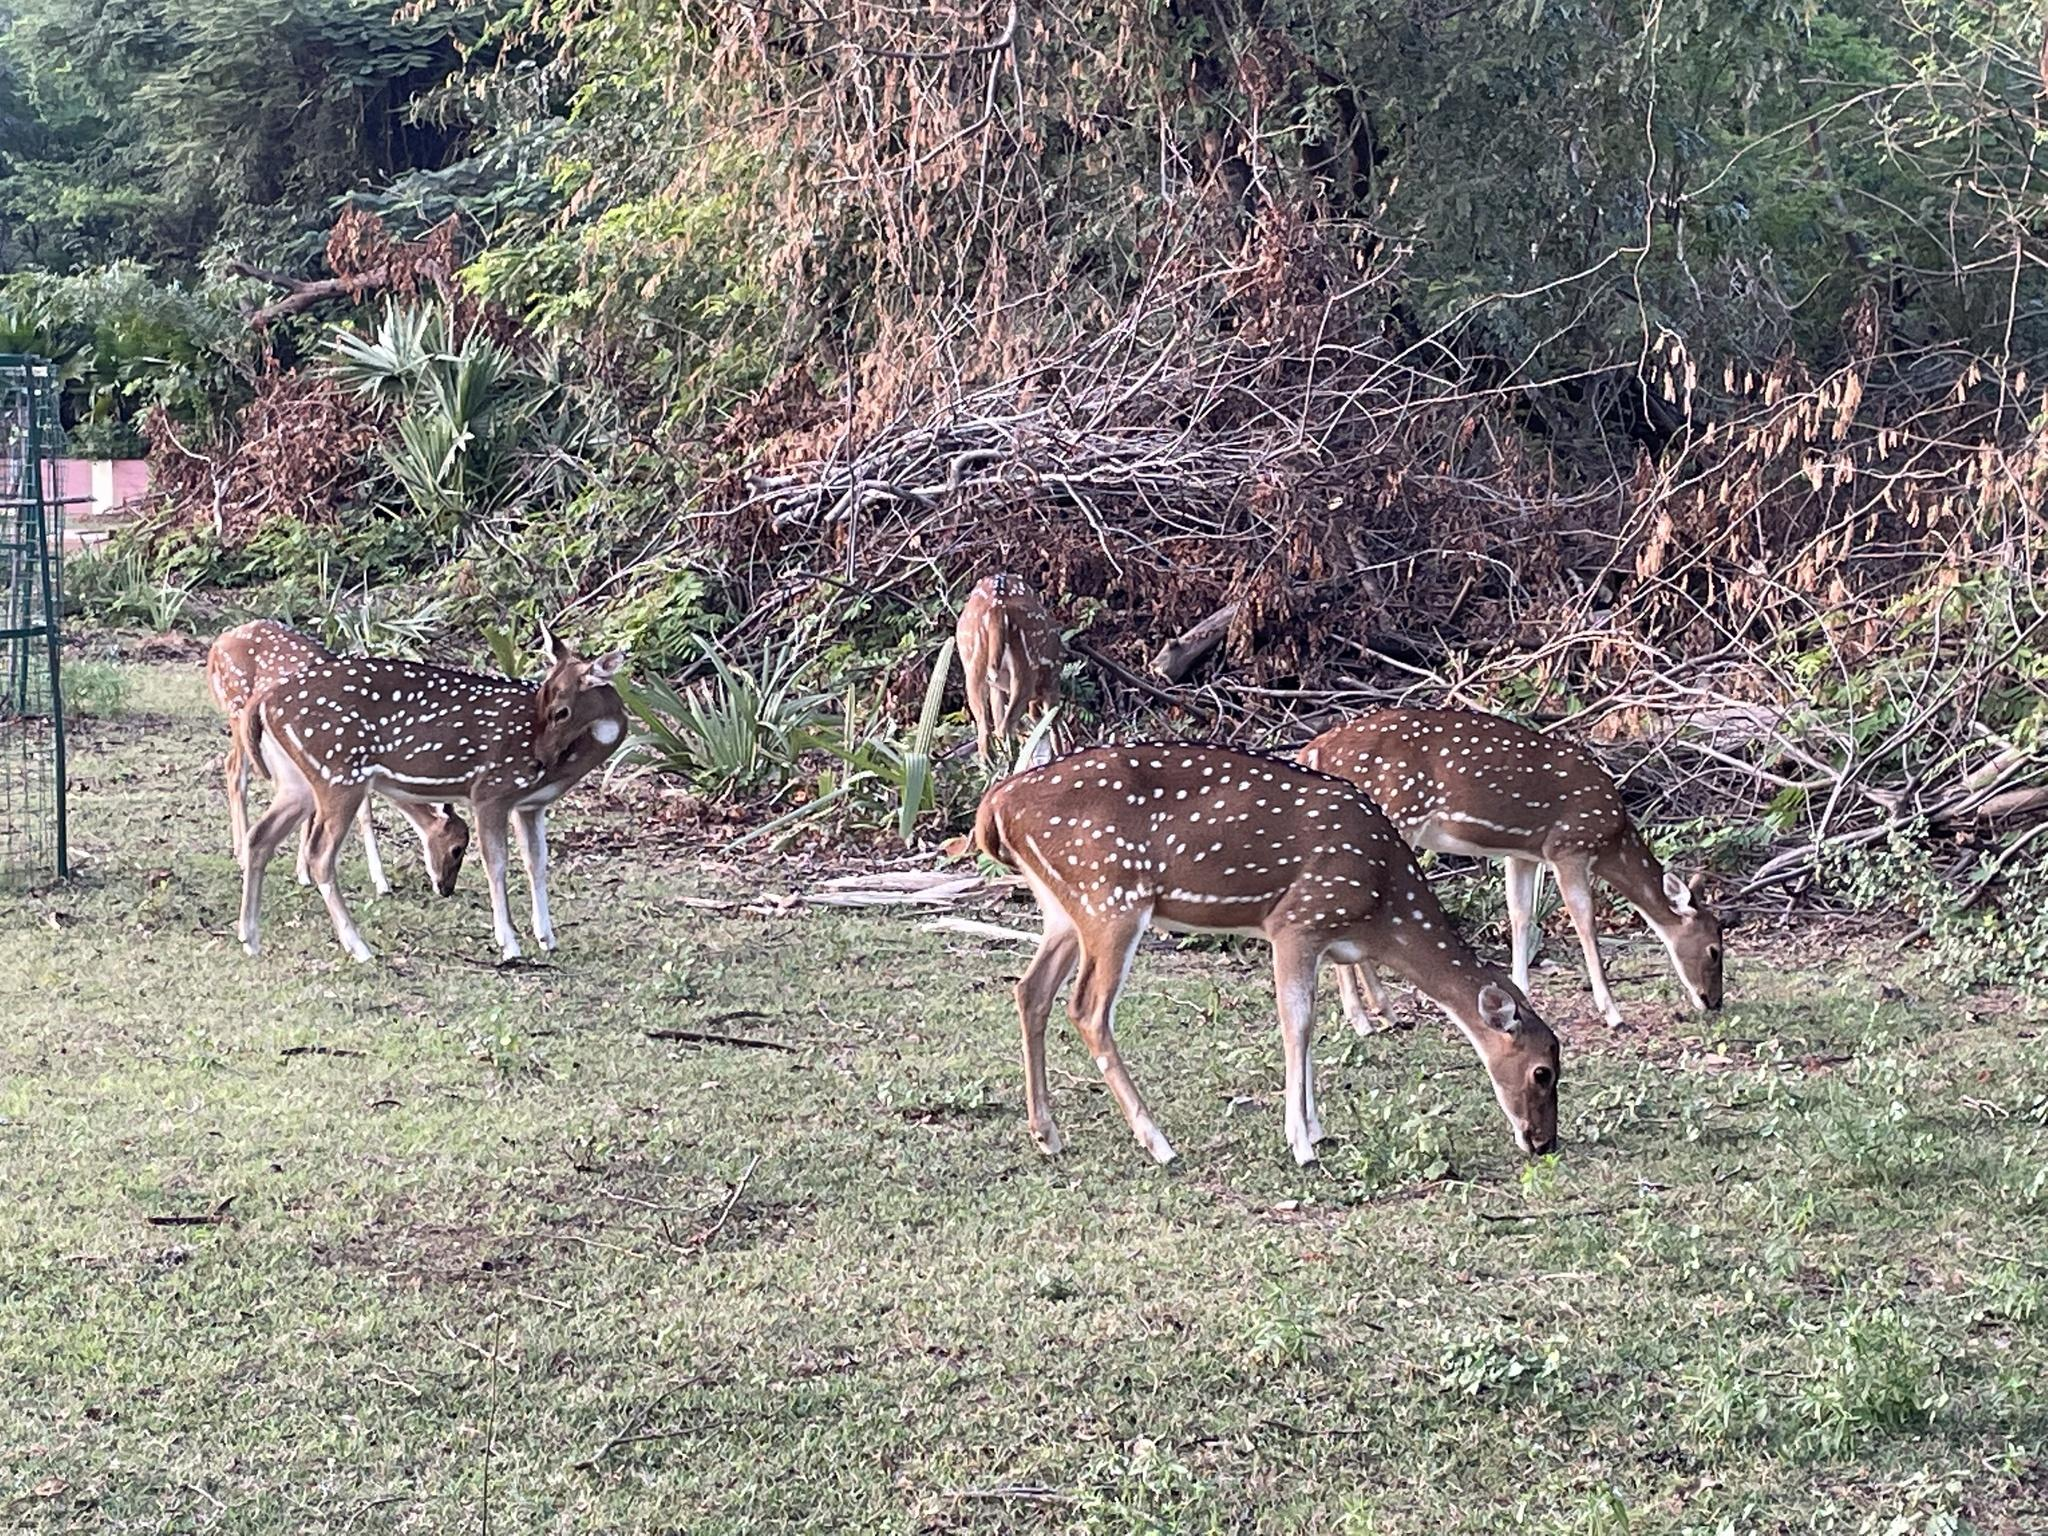Deer: (972, 744, 1559, 1163), (1297, 707, 1721, 1028), (239, 620, 629, 960), (956, 576, 1064, 755)
